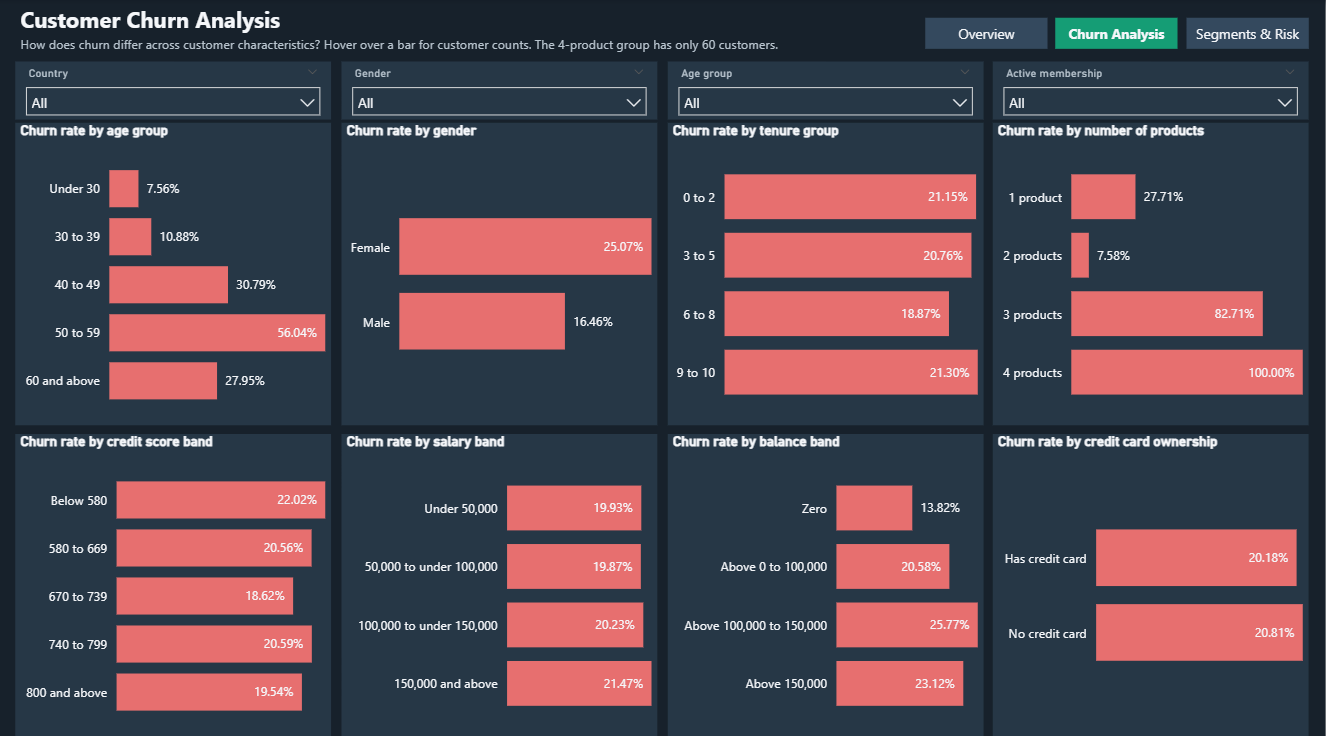

Layout of this report page (visuals, bound fields, positions):
{"tool":"powerbi","page":{"name":"Customer Churn Analysis","canvas":[1280,720],"ordinal":1},"visuals":[{"type":"textbox","box":[16,0,800,60],"z":2000},{"type":"actionButton","box":[894,18,118,30],"z":2100},{"type":"actionButton","box":[1020,18,118,30],"z":2200},{"type":"actionButton","box":[1146,18,118,30],"z":2300},{"type":"slicer","fields":{"Values":["bank_customers.country"]},"box":[16,60,304.5,56],"z":2400},{"type":"slicer","fields":{"Values":["bank_customers.gender"]},"box":[330.5,60,304.5,56],"z":2500},{"type":"slicer","fields":{"Values":["bank_customers.age_group"]},"box":[645,60,304.5,56],"z":2600},{"type":"slicer","fields":{"Values":["bank_customers.Membership Status"]},"box":[959.5,60,304.5,56],"z":2700},{"type":"clusteredBarChart","title":"Churn rate by age group","fields":{"Category":["bank_customers.age_group"],"Y":["bank_customers.Churn Rate"]},"box":[16,120,304.5,292],"z":2800},{"type":"clusteredBarChart","title":"Churn rate by gender","fields":{"Category":["bank_customers.gender"],"Y":["bank_customers.Churn Rate"]},"box":[330.5,120,304.5,292],"z":2900},{"type":"clusteredBarChart","title":"Churn rate by tenure group","fields":{"Category":["bank_customers.tenure_group"],"Y":["bank_customers.Churn Rate"]},"box":[645,120,304.5,292],"z":3000},{"type":"clusteredBarChart","title":"Churn rate by number of products","fields":{"Category":["bank_customers.Products Held"],"Y":["bank_customers.Churn Rate"]},"box":[959.5,120,304.5,292],"z":3100},{"type":"clusteredBarChart","title":"Churn rate by credit score band","fields":{"Category":["bank_customers.credit_score_band"],"Y":["bank_customers.Churn Rate"]},"box":[16,420,304.5,292],"z":3200},{"type":"clusteredBarChart","title":"Churn rate by salary band","fields":{"Category":["bank_customers.salary_band"],"Y":["bank_customers.Churn Rate"]},"box":[330.5,420,304.5,292],"z":3300},{"type":"clusteredBarChart","title":"Churn rate by balance band","fields":{"Category":["bank_customers.balance_band"],"Y":["bank_customers.Churn Rate"]},"box":[645,420,304.5,292],"z":3400},{"type":"clusteredBarChart","title":"Churn rate by credit card ownership","fields":{"Category":["bank_customers.Credit Card Status"],"Y":["bank_customers.Churn Rate"]},"box":[959.5,420,304.5,292],"z":3500}]}

Visuals, with their boxes in screenshot pixels (x1, y1, x2, y2), scaled from the page's 1280x720 canvas onto the 1326x736 screenshot:
textbox: Rect(17, 0, 845, 61)
actionButton: Rect(926, 18, 1048, 49)
actionButton: Rect(1057, 18, 1179, 49)
actionButton: Rect(1187, 18, 1309, 49)
slicer - bank_customers.country: Rect(17, 61, 332, 119)
slicer - bank_customers.gender: Rect(342, 61, 658, 119)
slicer - bank_customers.age_group: Rect(668, 61, 984, 119)
slicer - bank_customers.Membership Status: Rect(994, 61, 1309, 119)
"Churn rate by age group" clusteredBarChart: Rect(17, 123, 332, 421)
"Churn rate by gender" clusteredBarChart: Rect(342, 123, 658, 421)
"Churn rate by tenure group" clusteredBarChart: Rect(668, 123, 984, 421)
"Churn rate by number of products" clusteredBarChart: Rect(994, 123, 1309, 421)
"Churn rate by credit score band" clusteredBarChart: Rect(17, 429, 332, 728)
"Churn rate by salary band" clusteredBarChart: Rect(342, 429, 658, 728)
"Churn rate by balance band" clusteredBarChart: Rect(668, 429, 984, 728)
"Churn rate by credit card ownership" clusteredBarChart: Rect(994, 429, 1309, 728)
